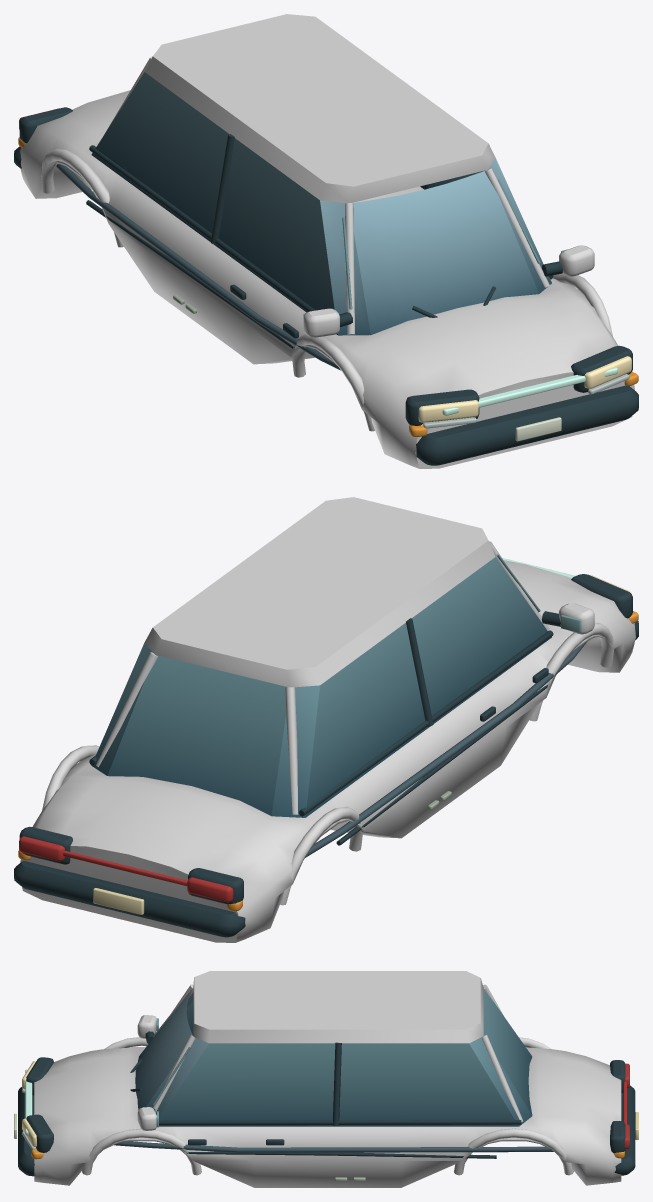
Rendered from ion.glb.
The picture shows the model from 3 angles, top to bottom: view 1: azimuth 30°, elevation 25°; view 2: azimuth 150°, elevation 25°; view 3: azimuth 270°, elevation 25°; orthographic projection. The views are drawn at different scales.
Parts seen in each view (by area): view 1: Chassis, Headlamps; view 2: Chassis, BrakeLamps; view 3: Chassis, Headlamps, BrakeLamps.
Part boxes in pixels (<box>): Chassis: <box>14,14,638,468</box>; Headlamps: <box>418,356,631,422</box>; Chassis: <box>14,497,638,942</box>; BrakeLamps: <box>19,836,233,902</box>; Chassis: <box>14,971,638,1187</box>; Headlamps: <box>22,1061,36,1146</box>; BrakeLamps: <box>623,1063,629,1149</box>.
Bounding box in the file's own units: 1.86 × 1.22 × 4.74.
